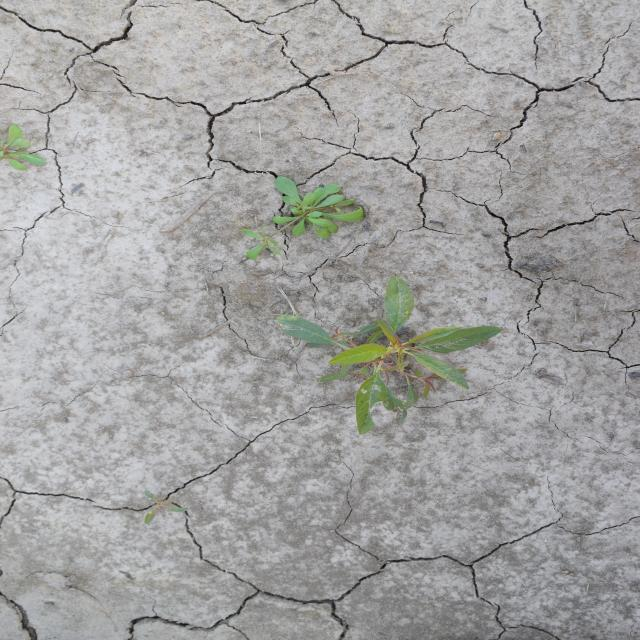Carpetweed: (236, 175, 366, 262), (0, 122, 50, 175)
Waterhemp: (271, 274, 504, 437)
